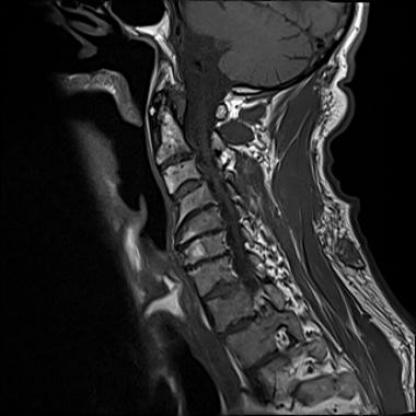Disc Bulgerotation: (167, 180, 210, 198), (174, 232, 224, 247), (169, 208, 220, 222), (182, 255, 232, 269), (159, 153, 194, 169)
Osteophytesrotation: (166, 179, 209, 198), (173, 233, 223, 248), (169, 208, 220, 222), (183, 255, 233, 269), (159, 153, 194, 169)
